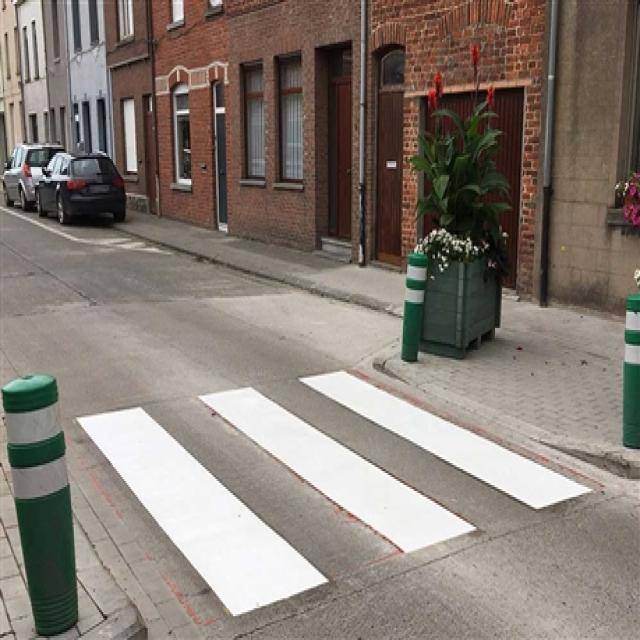crosswalk: (57, 370, 631, 631)
